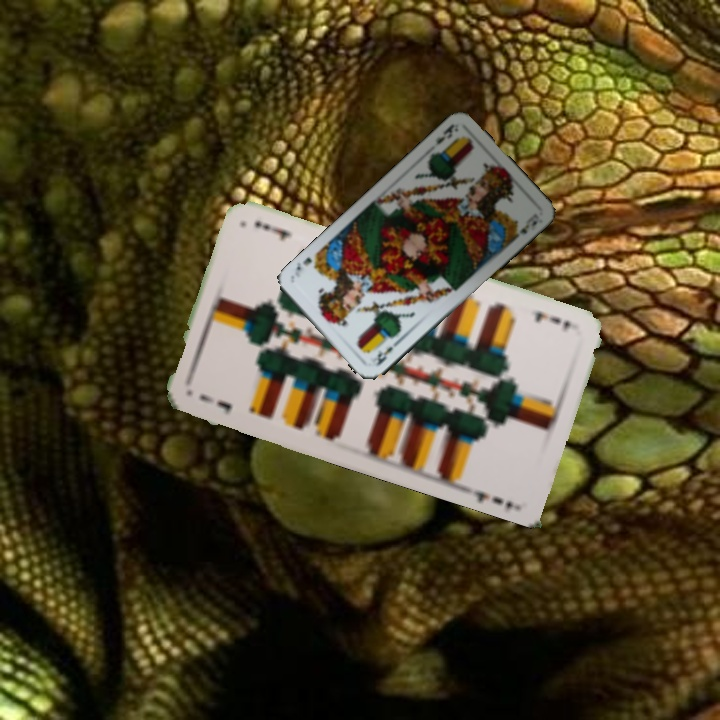E7: (526, 306, 574, 335), (196, 390, 235, 418)
EK: (373, 336, 402, 368), (432, 120, 457, 147)
